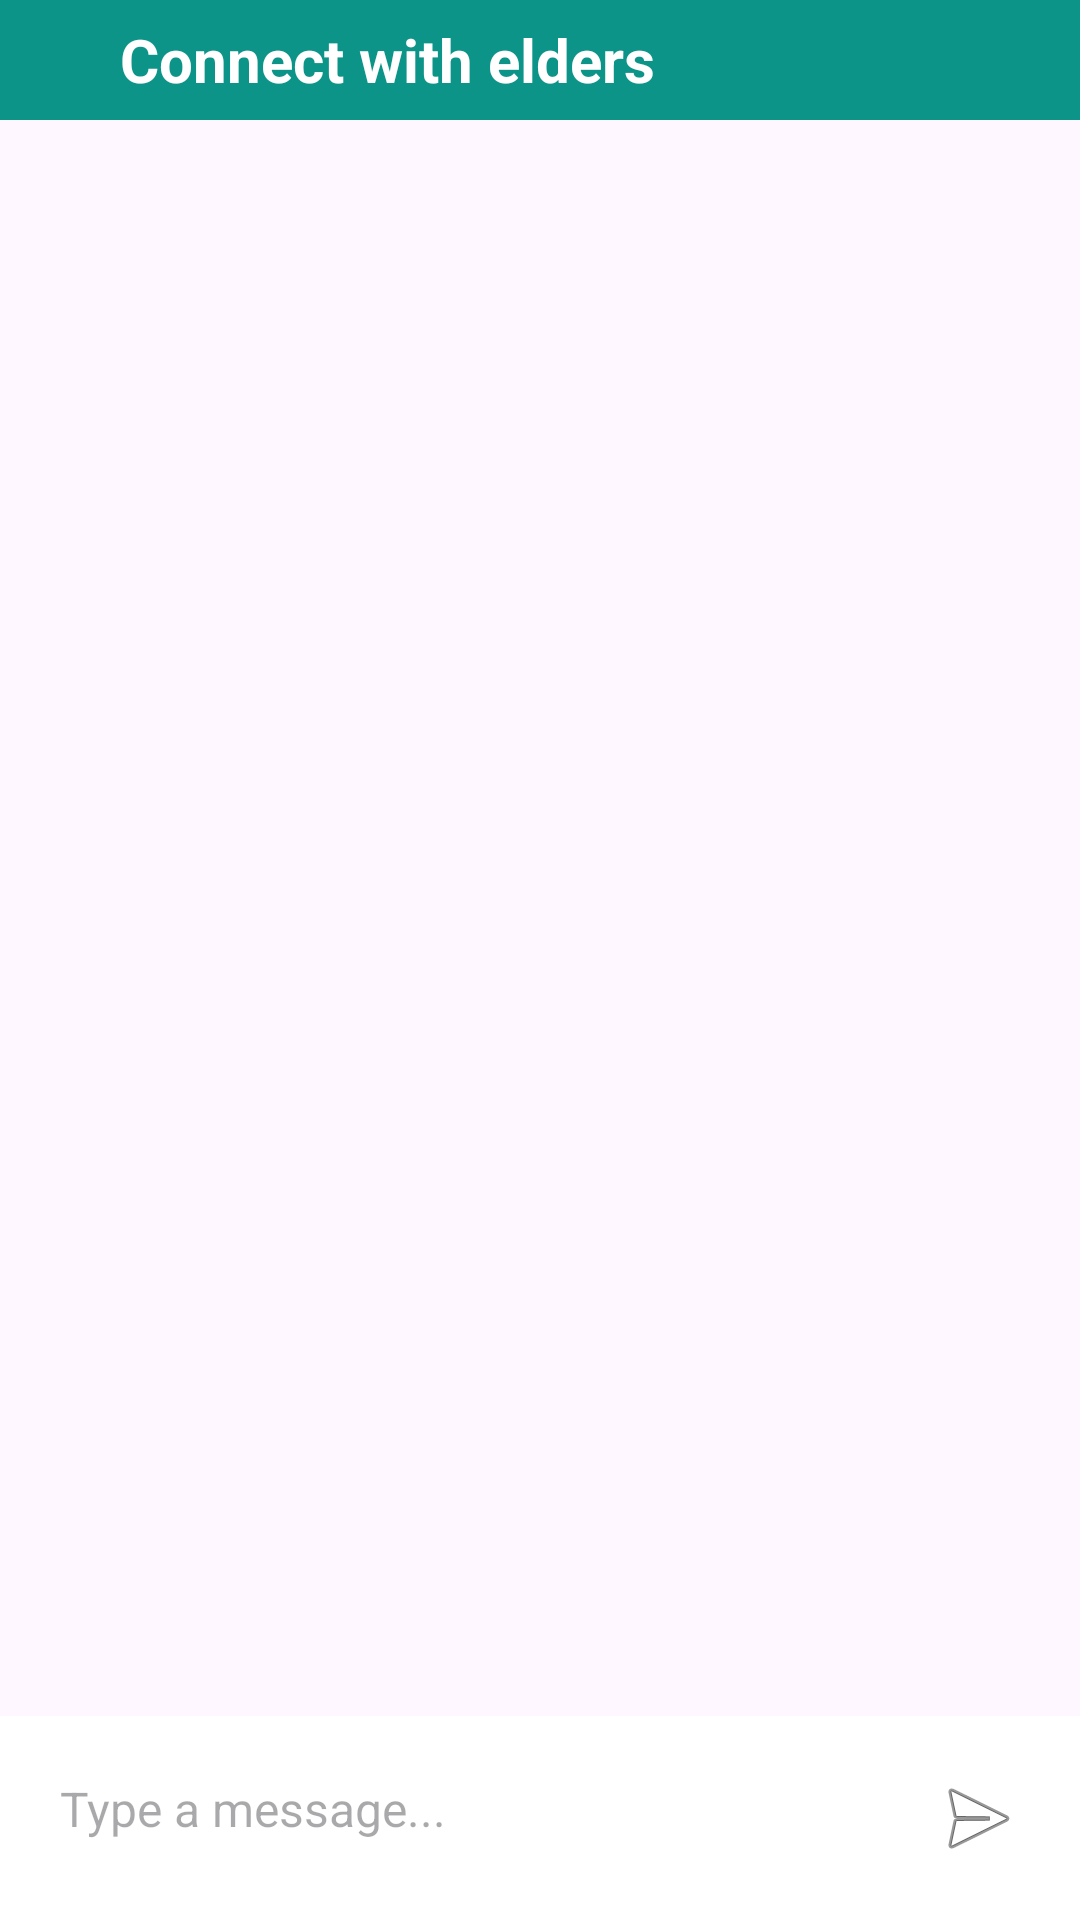

Point at icon controls on the screen. Image size 1080 × 1920, points as (x,y).
send: (979,1818)
